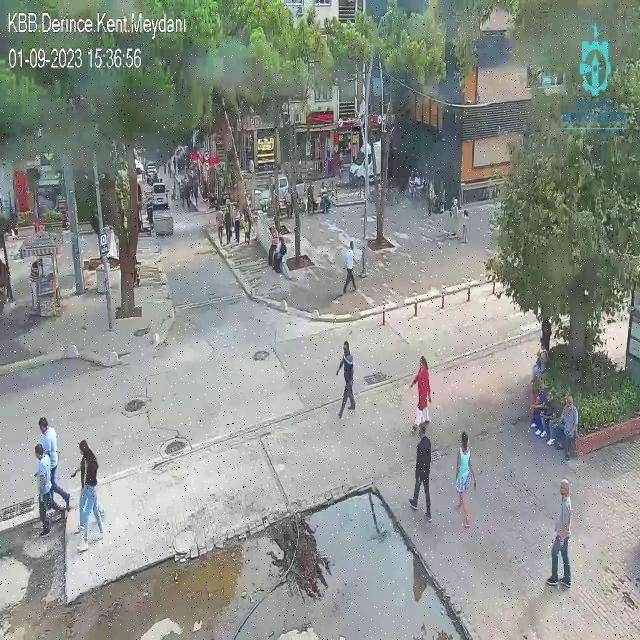Van: (151, 182, 170, 211)
